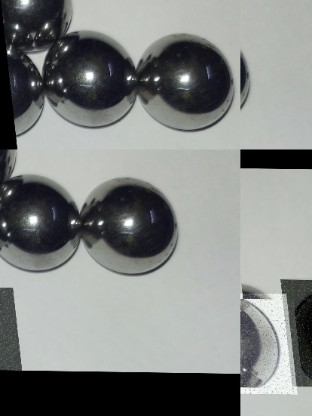ironball: (81, 177, 186, 276), (134, 30, 232, 128), (44, 29, 136, 126), (2, 170, 81, 274), (240, 292, 291, 394), (0, 44, 53, 133), (276, 279, 312, 387), (0, 0, 71, 47), (0, 286, 13, 370)
